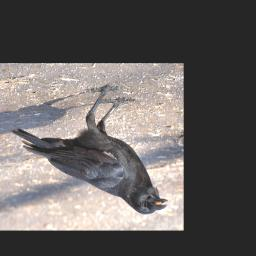Crow: (11, 84, 168, 216)
